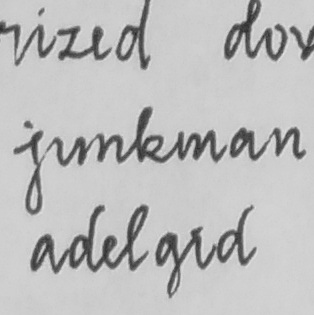a: (227, 125, 259, 162)
j: (10, 128, 48, 217)
k: (132, 102, 167, 166)
m: (174, 126, 220, 162)
n: (270, 124, 307, 161), (94, 130, 126, 166)
u: (53, 133, 89, 168)
